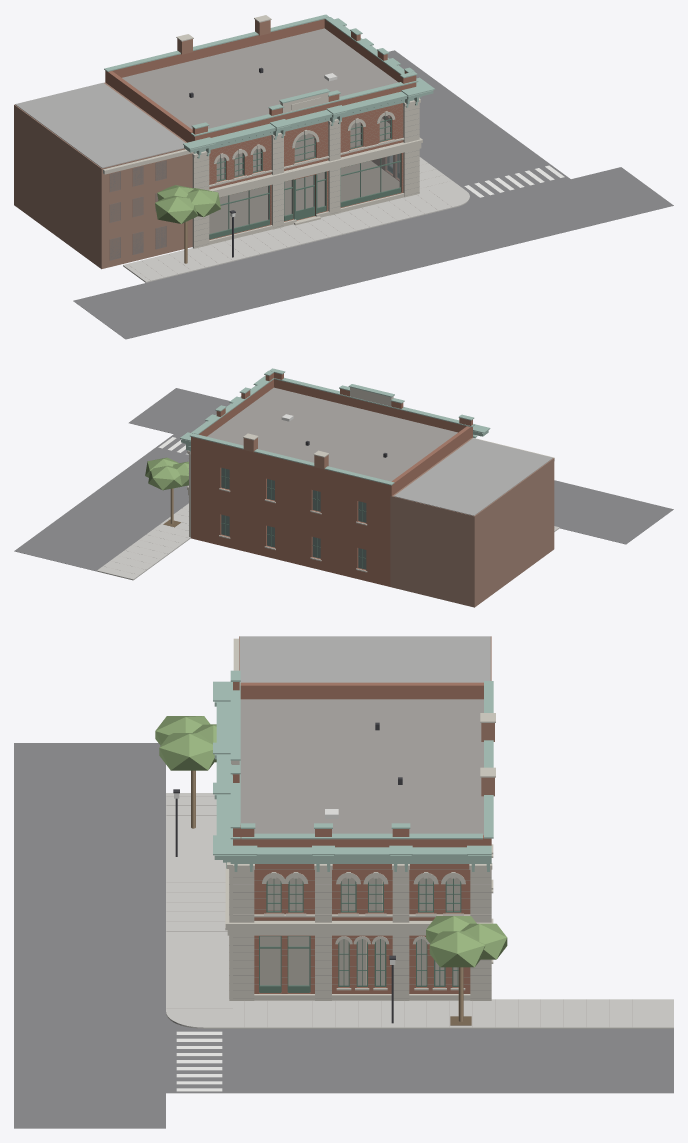
Rendered from clay-halifax-waterfront-warehouse-clay-v002.glb.
The picture shows the model from 3 angles, top to bottom: view 1: azimuth 30°, elevation 25°; view 2: azimuth 150°, elevation 25°; view 3: azimuth 270°, elevation 25°; orthographic projection. The views are drawn at different scales.
Parts seen in each view (by area): view 1: CLAY_ASPHALT, CLAY_NEIGHBOUR, CLAY_ROOF, CLAY_WALL, CLAY_STONE, CLAY_CONCRETE, CLAY_GLASS, CLAY_MEMBRANE, CLAY_COPPER, CLAY_FLOOR, CLAY_FRAME, CLAY_PLANTING (+2 smaller); view 2: CLAY_WALL, CLAY_ASPHALT, CLAY_NEIGHBOUR, CLAY_ROOF, CLAY_MEMBRANE, CLAY_COPPER, CLAY_CONCRETE, CLAY_FRAME, CLAY_GLASS, CLAY_PLANTING, CLAY_STONE; view 3: CLAY_ASPHALT, CLAY_ROOF, CLAY_CONCRETE, CLAY_WALL, CLAY_STONE, CLAY_COPPER, CLAY_MEMBRANE, CLAY_FLOOR, CLAY_GLASS, CLAY_PLANTING, CLAY_FRAME, CLAY_JOINT (+2 smaller).
Boxes of the visible parts, bbox=[...] form: CLAY_ASPHALT: bbox=[73, 50, 673, 339]; CLAY_NEIGHBOUR: bbox=[14, 82, 192, 269]; CLAY_ROOF: bbox=[122, 28, 398, 129]; CLAY_WALL: bbox=[105, 19, 416, 239]; CLAY_STONE: bbox=[103, 15, 422, 248]; CLAY_CONCRETE: bbox=[123, 156, 469, 282]; CLAY_GLASS: bbox=[109, 115, 400, 260]; CLAY_MEMBRANE: bbox=[15, 82, 185, 168]; CLAY_COPPER: bbox=[104, 14, 435, 158]; CLAY_FLOOR: bbox=[209, 118, 399, 233]; CLAY_FRAME: bbox=[209, 116, 401, 239]; CLAY_PLANTING: bbox=[155, 61, 397, 223]; CLAY_WALL: bbox=[191, 372, 472, 586]; CLAY_ASPHALT: bbox=[14, 388, 673, 571]; CLAY_NEIGHBOUR: bbox=[390, 438, 554, 607]; CLAY_ROOF: bbox=[207, 387, 457, 481]; CLAY_MEMBRANE: bbox=[394, 438, 552, 515]; CLAY_COPPER: bbox=[180, 368, 490, 485]; CLAY_CONCRETE: bbox=[97, 503, 559, 580]; CLAY_FRAME: bbox=[221, 468, 366, 569]; CLAY_GLASS: bbox=[221, 468, 366, 569]; CLAY_PLANTING: bbox=[145, 457, 188, 490]; CLAY_STONE: bbox=[187, 387, 554, 572]; CLAY_ASPHALT: bbox=[14, 743, 673, 1128]; CLAY_ROOF: bbox=[240, 699, 483, 835]; CLAY_CONCRETE: bbox=[166, 793, 673, 1028]; CLAY_WALL: bbox=[233, 682, 491, 993]; CLAY_STONE: bbox=[225, 638, 495, 1000]; CLAY_COPPER: bbox=[213, 670, 493, 871]; CLAY_MEMBRANE: bbox=[239, 636, 490, 682]; CLAY_FLOOR: bbox=[260, 877, 460, 985]; CLAY_GLASS: bbox=[260, 877, 460, 985]; CLAY_PLANTING: bbox=[155, 716, 507, 967]; CLAY_FRAME: bbox=[259, 878, 461, 992]; CLAY_JOINT: bbox=[166, 796, 632, 1026].
Size of the model in its own units: 60 by 13.3 by 43.4.
